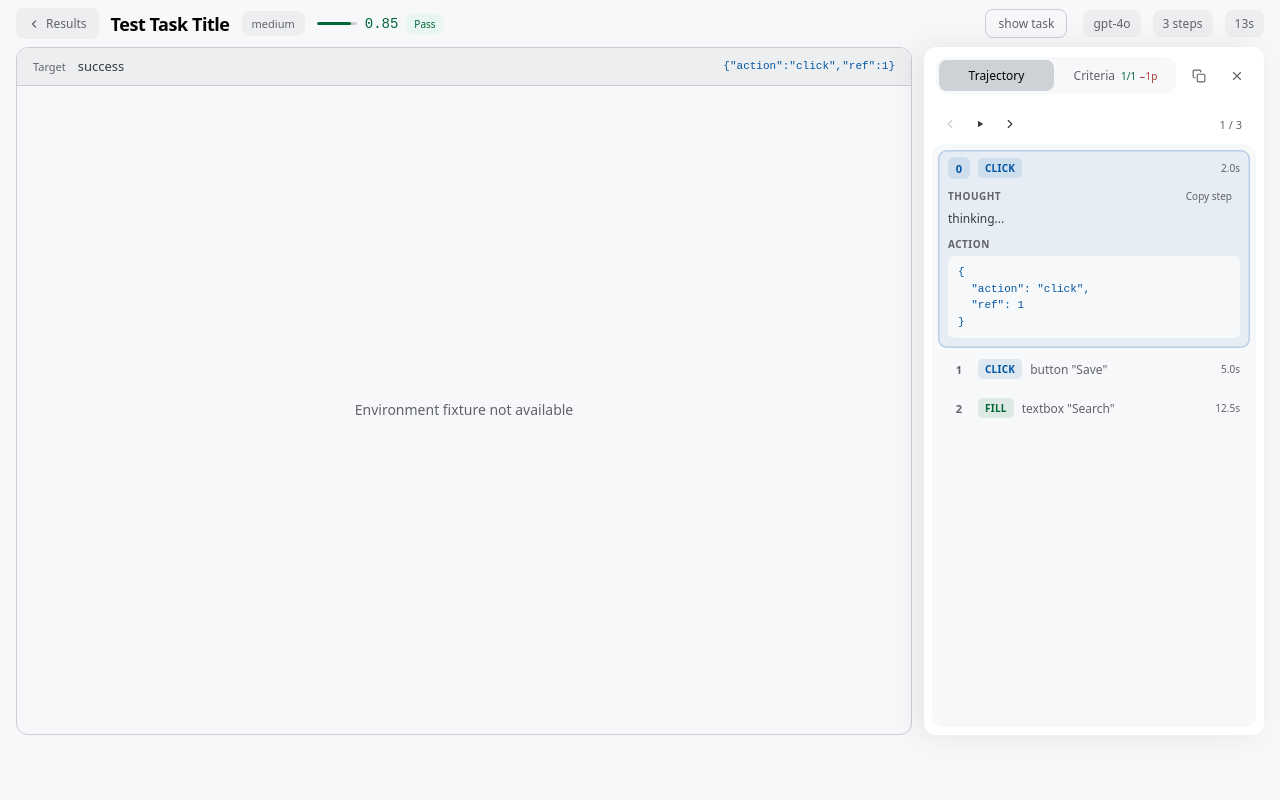
Scenario: Criteria panel (category 6) › shows penalty badge for failed criteria
Check: the heading "Test Task Title" is shown, box [111,10,230,38]
Click the button "Criteria1/1 −1p".
click(1116, 76)  # box [1058,60,1173,91]
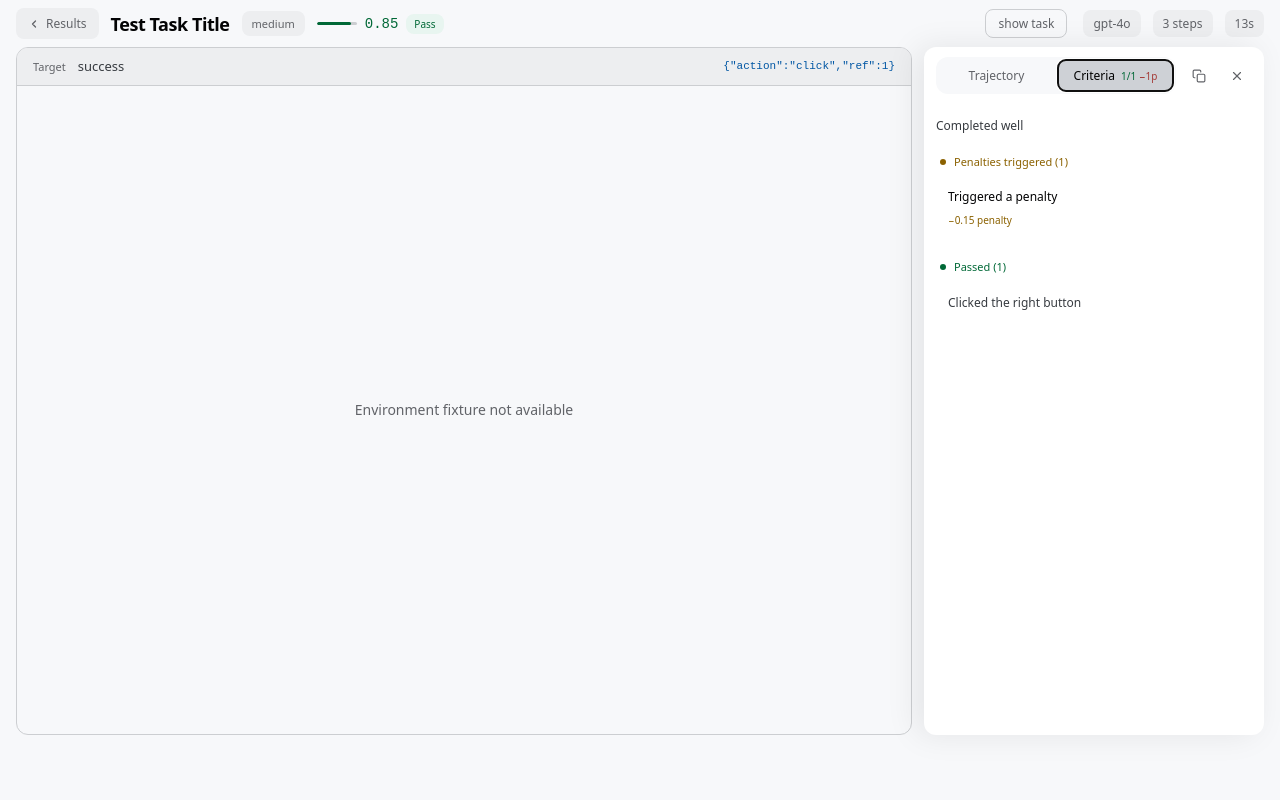
Check: the text "Penalties triggered (1)" is shown, box [954,153,1068,170]
Check: the text "−0.15 penalty" is shown, box [948,212,1012,228]
